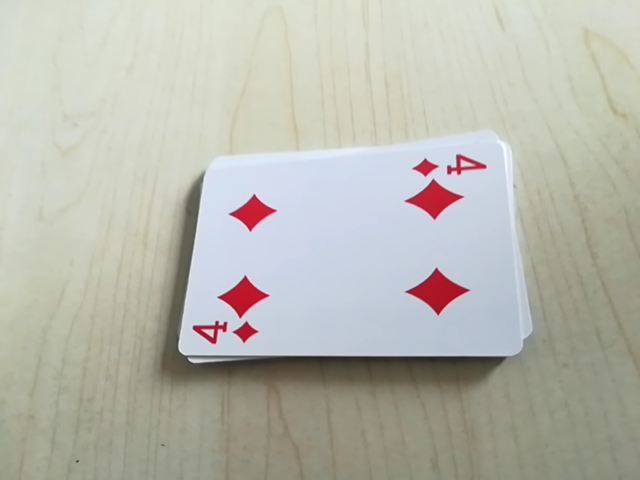fk 4: (410, 146, 494, 183), (185, 319, 263, 357)
